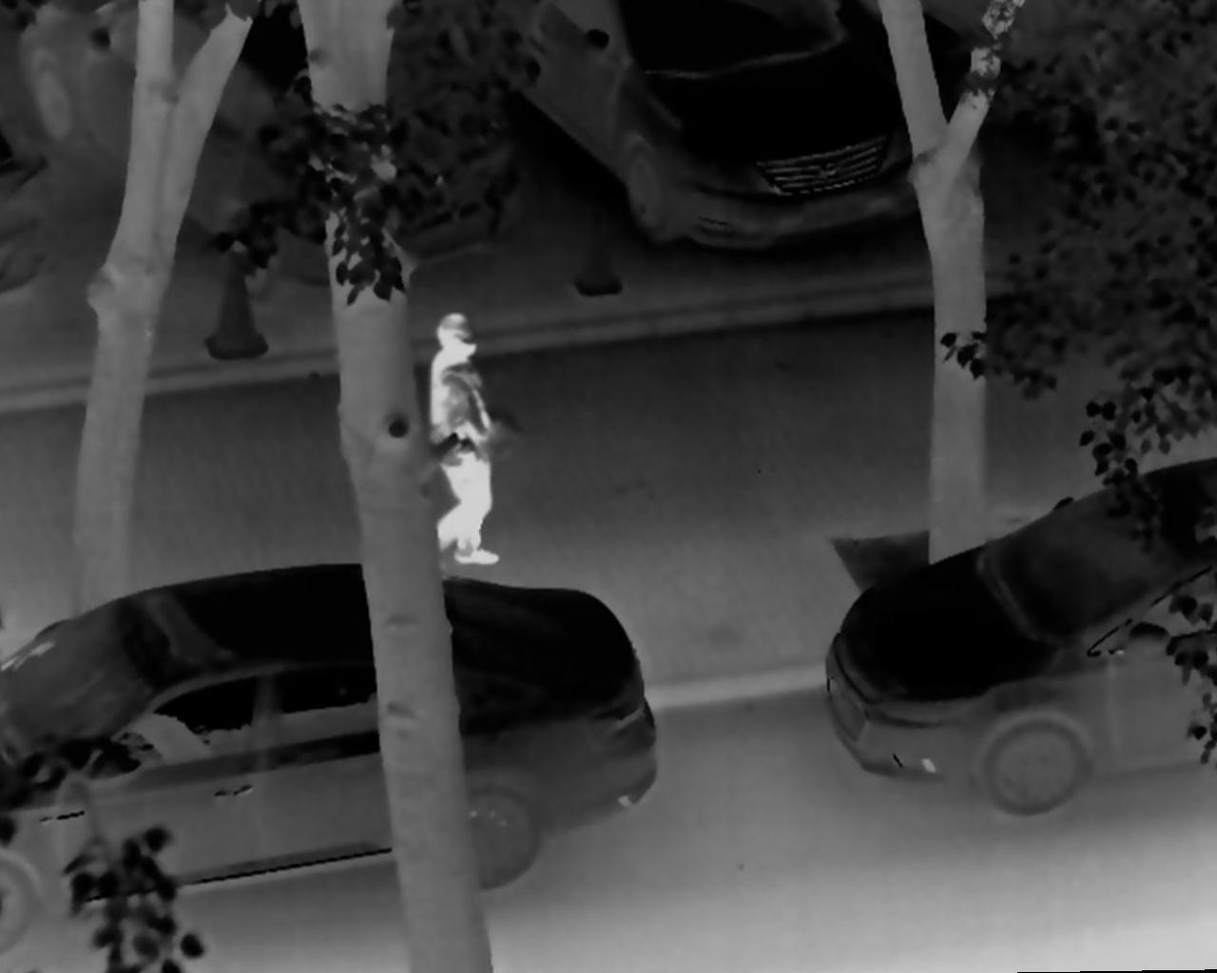person: (411, 313, 504, 573)
